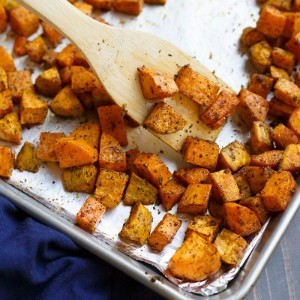sweet potato_brain food: (50, 121, 272, 246)
